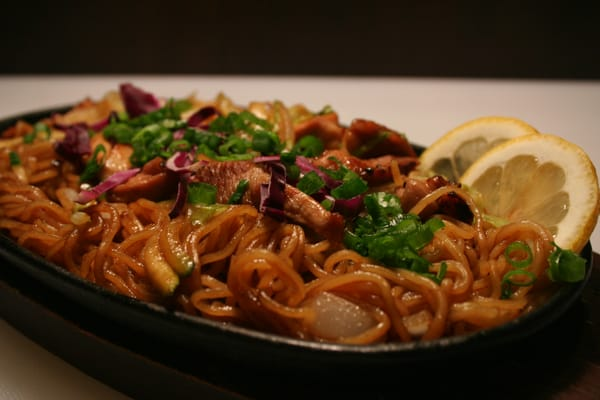curry: (344, 192, 445, 277)
sushi: (0, 72, 596, 390)
